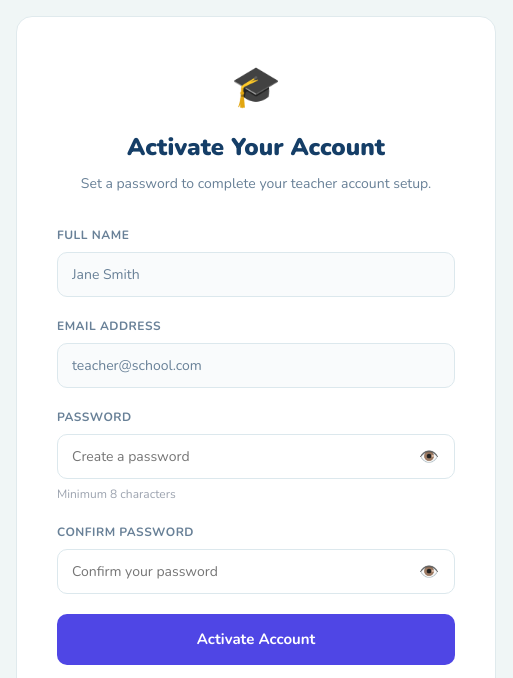
Test case: AcceptInvitation page › password mismatch shows validation error
Expected: the heading "Activate Your Account" is shown, top-left (127, 131), bottom-right (385, 163)
Type "Password123!" into the password field labelled "Create a password" at [256, 456], box top-left (57, 434), bottom-right (455, 479)
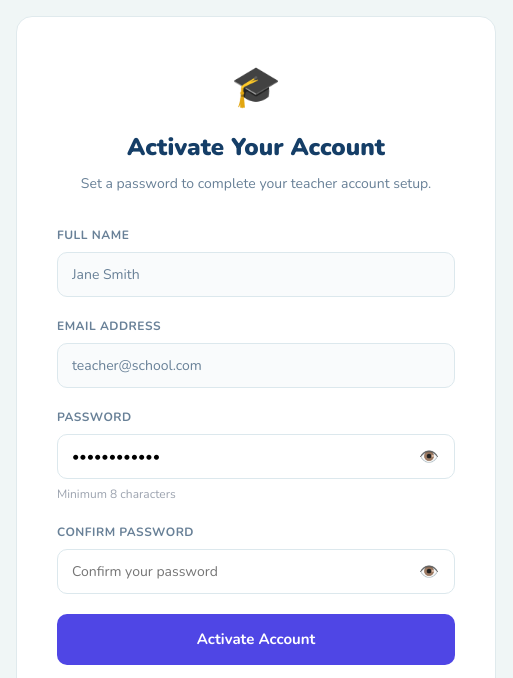
Type "Different123!" into the password field named "Confirm password" at [256, 572], box top-left (57, 549), bottom-right (455, 594)
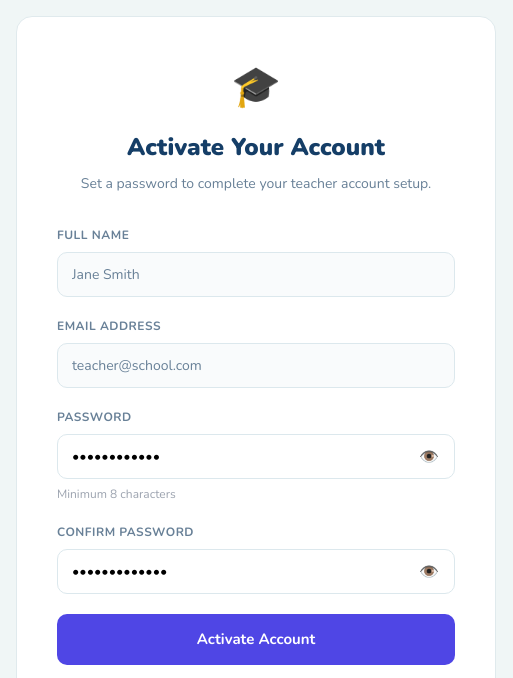
Click the button "Activate Account" at [256, 639], box top-left (57, 614), bottom-right (455, 664)
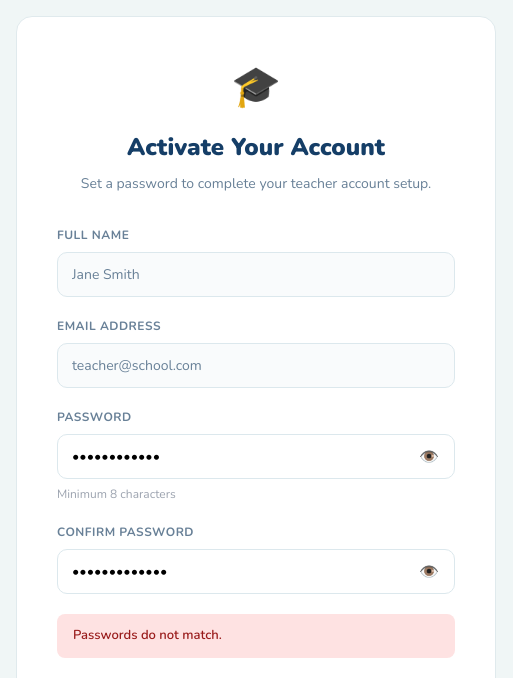
Expected: the text "Passwords do not match." is shown, top-left (57, 614), bottom-right (455, 658)
